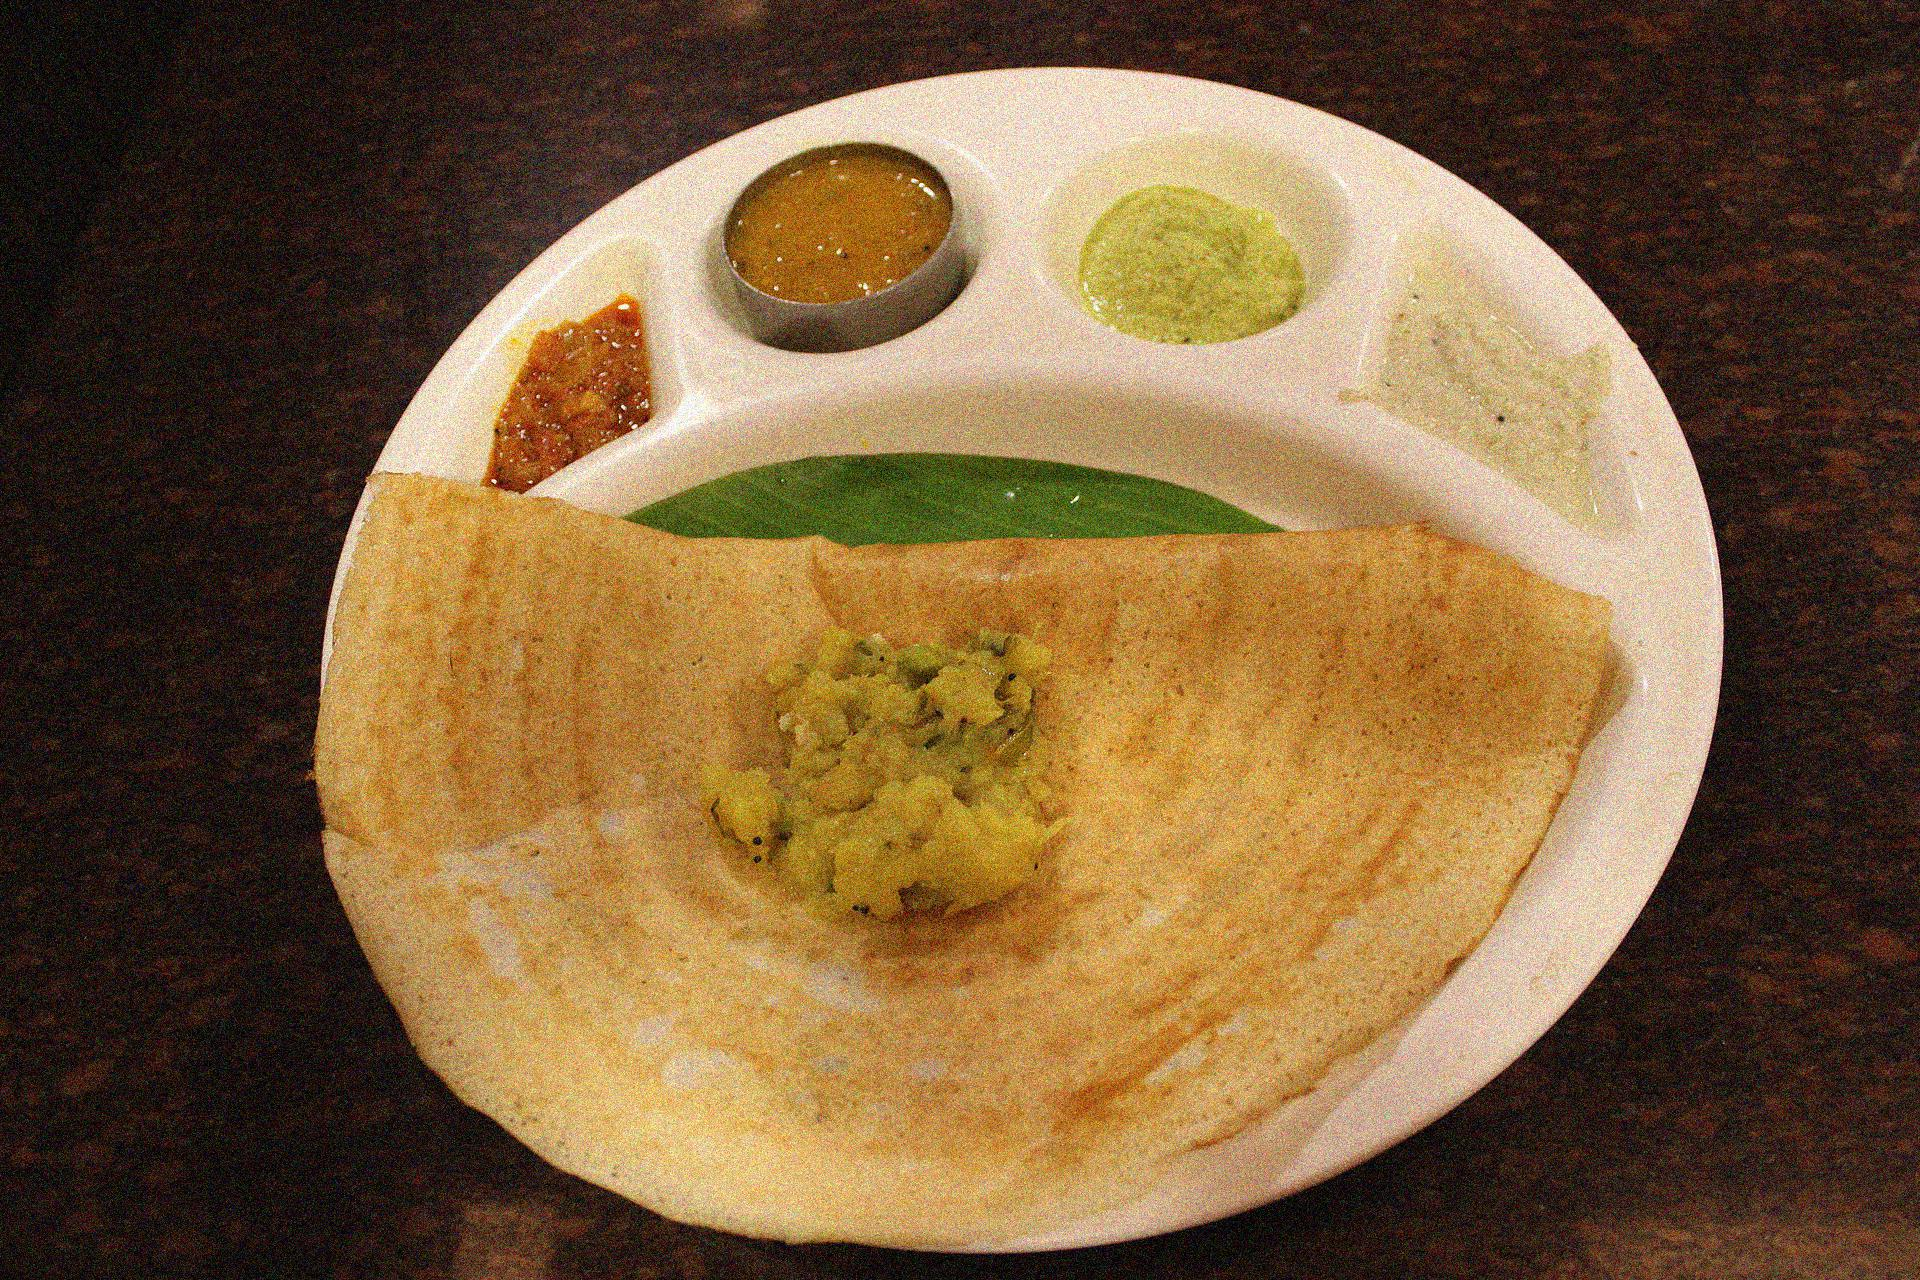dosa: (306, 474, 1619, 1249)
